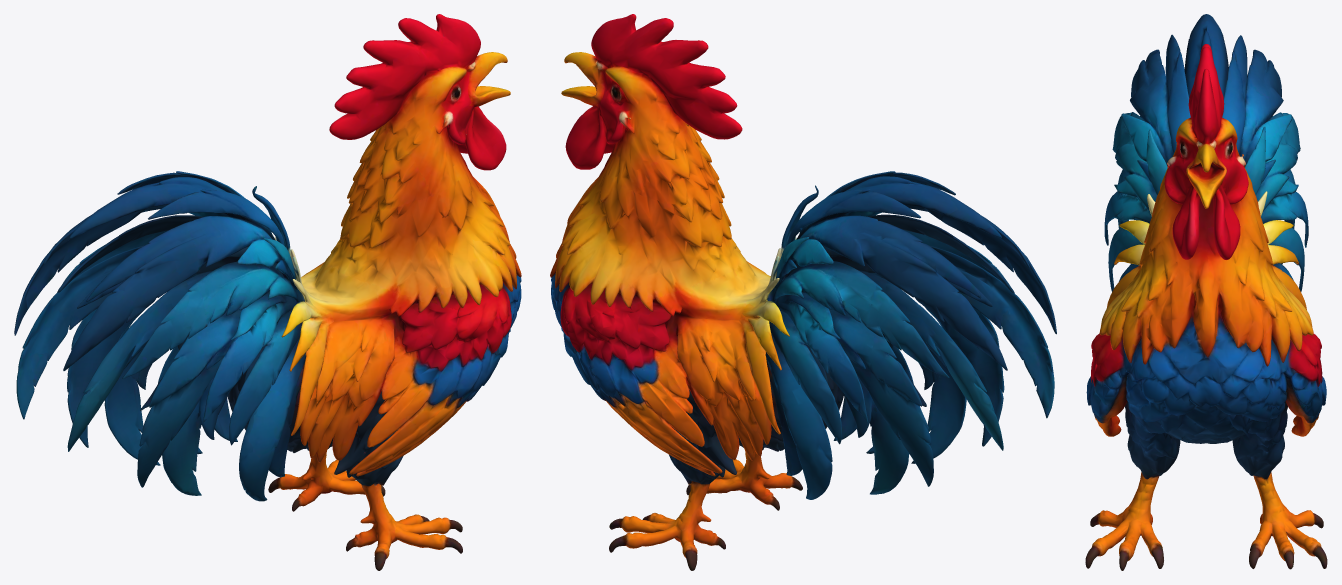
Rendered from rooster3d.glb.
3 views of the same model, side by side, from view 1: azimuth 30°, elevation 25°; view 2: azimuth 150°, elevation 25°; view 3: azimuth 270°, elevation 25° (orthographic). The views are drawn at different scales.
Parts seen in each view (by area): view 1: tripo_node_67e10353-46fc-4d76-9772-78170e859e66; view 2: tripo_node_67e10353-46fc-4d76-9772-78170e859e66; view 3: tripo_node_67e10353-46fc-4d76-9772-78170e859e66.
Boxes of the visible parts, box(x1,y1,x2,y2) form: tripo_node_67e10353-46fc-4d76-9772-78170e859e66: box(14, 14, 521, 570); tripo_node_67e10353-46fc-4d76-9772-78170e859e66: box(550, 14, 1056, 570); tripo_node_67e10353-46fc-4d76-9772-78170e859e66: box(1085, 14, 1327, 570).
Bounding box in the file's own units: 0.9989 × 0.9997 × 0.4206.
Materials: 1 (1 with a texture image).
